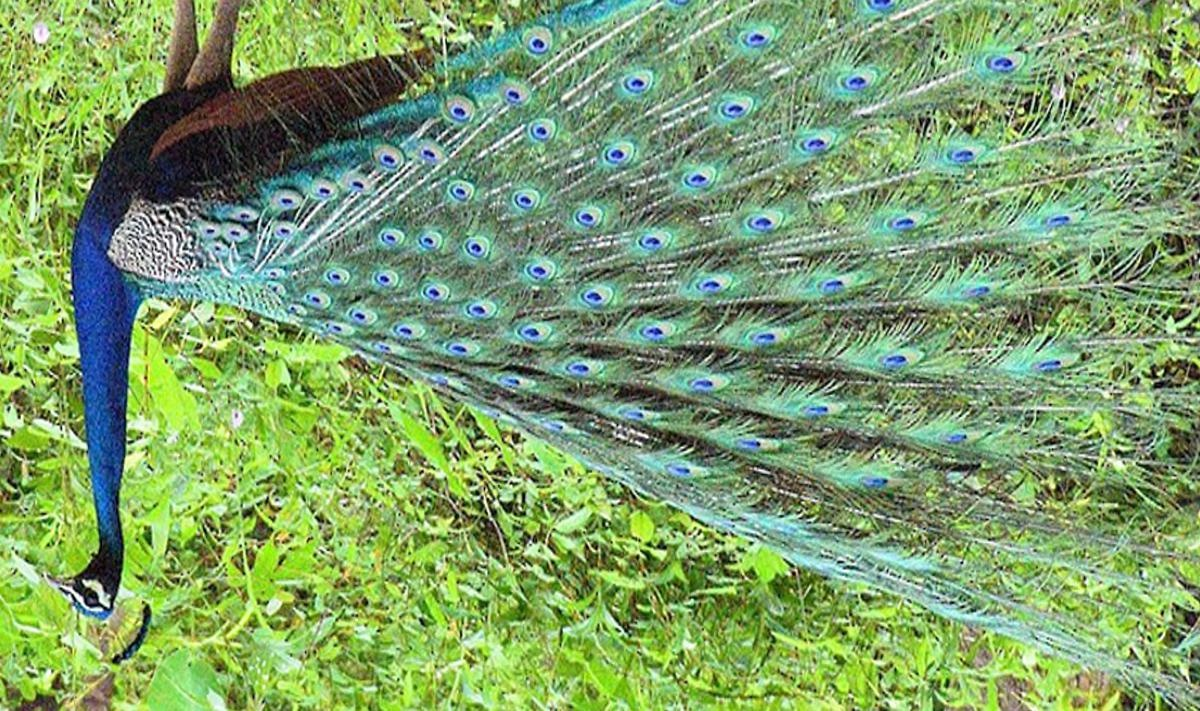peacock: (33, 19, 1200, 696)
